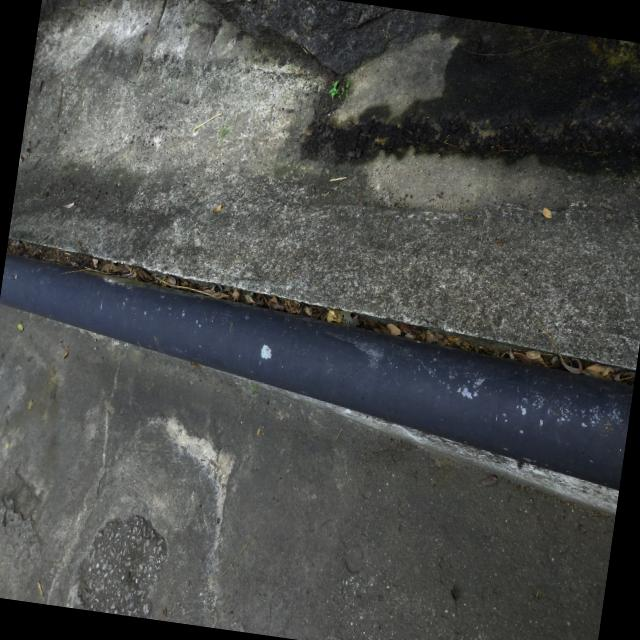gas: (0, 249, 640, 492)
